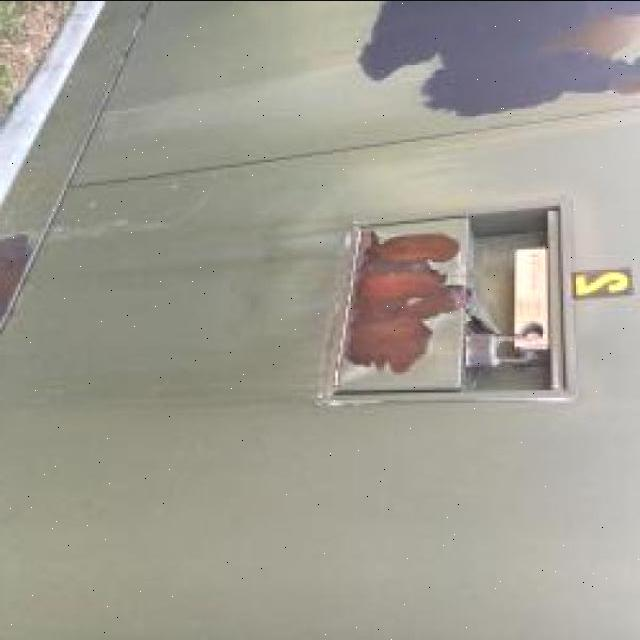corrosion: (366, 226, 441, 391), (0, 235, 33, 326)
crack: (66, 99, 637, 190), (79, 156, 266, 192), (100, 1, 160, 90)
dampens: (131, 4, 156, 39)
